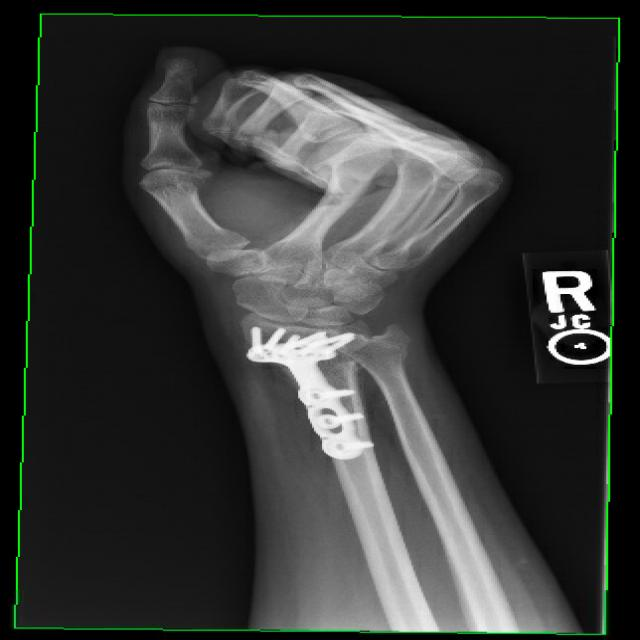x-ray: (221, 319, 431, 469)
